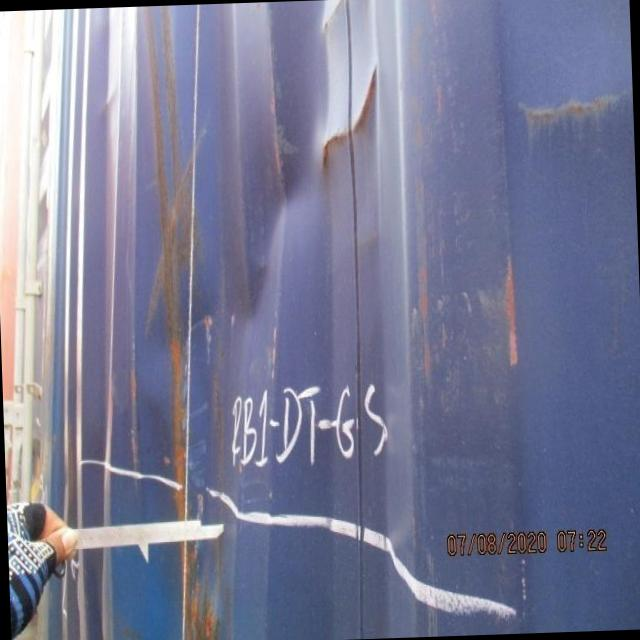Deframe_or_Dent: (60, 0, 431, 640)
